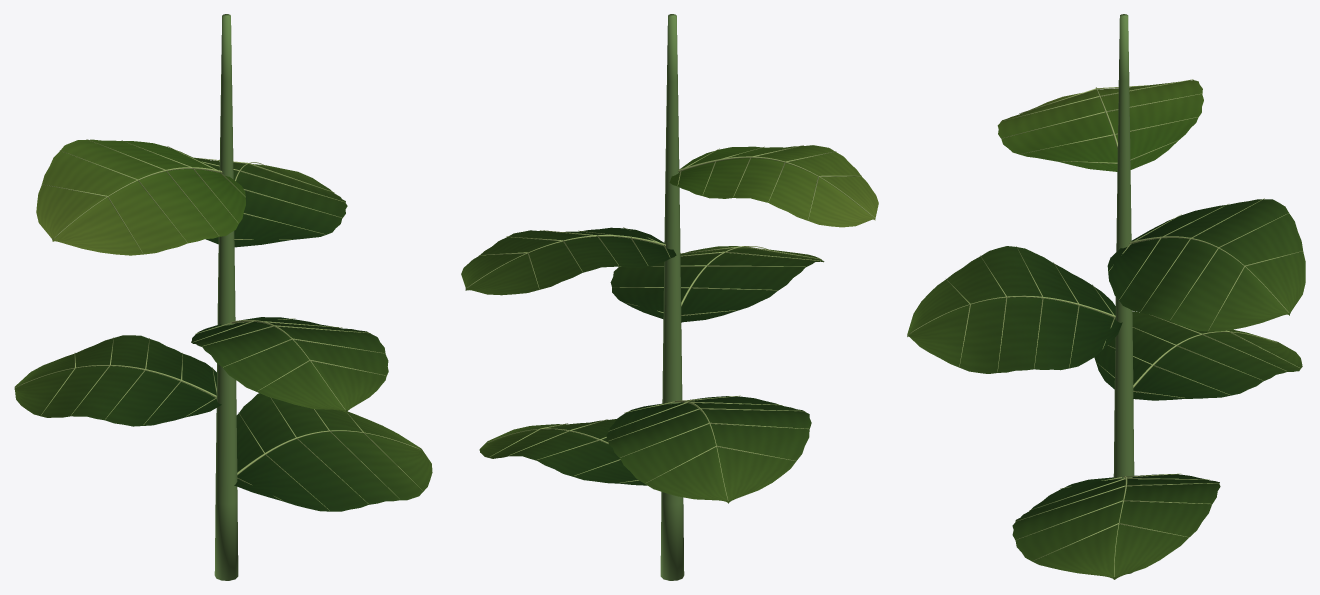
Rendered from sunflower-04.glb.
3 views of the same model, side by side, from view 1: azimuth 30°, elevation 25°; view 2: azimuth 150°, elevation 25°; view 3: azimuth 270°, elevation 25° (orthographic).
Visible parts, largest first — view 1: sunflower_stage_04_leaf_veins.006, sunflower_stage_04_young_leaf.006, sunflower_stage_04_stem_fibres.006, sunflower_stage_04_raised_midveins.006; view 2: sunflower_stage_04_leaf_veins.006, sunflower_stage_04_young_leaf.006, sunflower_stage_04_stem_fibres.006, sunflower_stage_04_raised_midveins.006; view 3: sunflower_stage_04_leaf_veins.006, sunflower_stage_04_young_leaf.006, sunflower_stage_04_stem_fibres.006, sunflower_stage_04_raised_midveins.006.
Part boxes in pixels (x1,y1,x2,y2): sunflower_stage_04_leaf_veins.006: (14,158,432,511); sunflower_stage_04_young_leaf.006: (36,139,245,255); sunflower_stage_04_stem_fibres.006: (214,14,238,580); sunflower_stage_04_raised_midveins.006: (14,139,422,510); sunflower_stage_04_leaf_veins.006: (461,227,824,503); sunflower_stage_04_young_leaf.006: (669,145,878,227); sunflower_stage_04_stem_fibres.006: (660,14,684,580); sunflower_stage_04_raised_midveins.006: (466,145,875,501); sunflower_stage_04_leaf_veins.006: (907,199,1305,579); sunflower_stage_04_young_leaf.006: (997,80,1203,171); sunflower_stage_04_stem_fibres.006: (1113,14,1134,573); sunflower_stage_04_raised_midveins.006: (908,79,1302,578).
Size of the model in its own units: 0.1475 by 0.2085 by 0.136.
4 materials, 2 textured.
